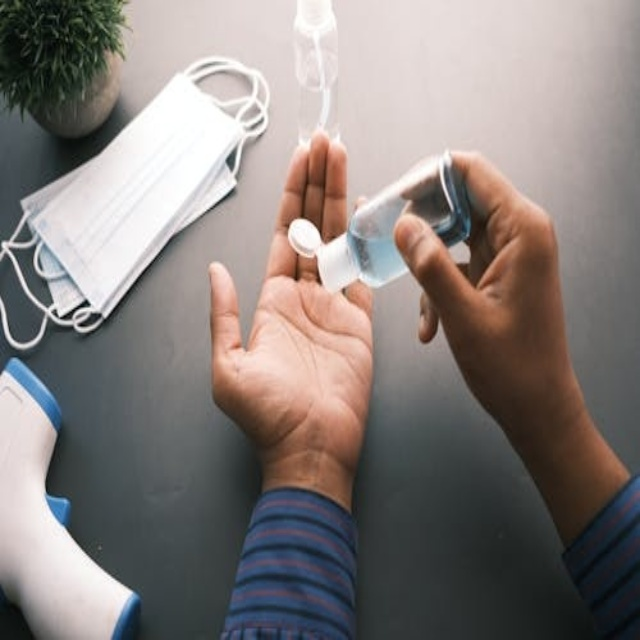Sin_guantes: (394, 146, 592, 461), (209, 129, 376, 502)
